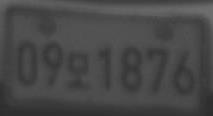0: (15, 41, 38, 86)
1: (95, 46, 116, 90)
6: (171, 51, 196, 95)
7: (145, 47, 169, 92)
8: (119, 47, 143, 92)
9: (42, 41, 64, 85)
모: (66, 51, 90, 91)
